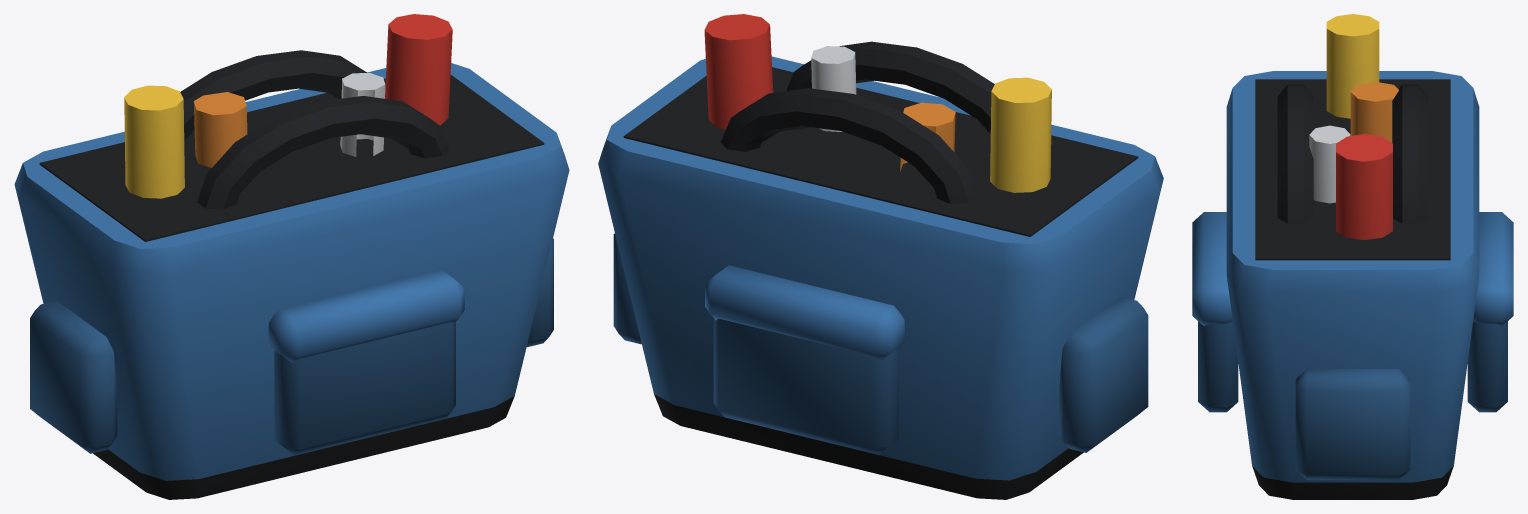
File: SM_ToolBag_01.glb
The picture shows the model from 3 angles, left to right: view 1: azimuth 30°, elevation 25°; view 2: azimuth 150°, elevation 25°; view 3: azimuth 270°, elevation 25°; orthographic projection. The views are drawn at different scales.
Visible parts, largest first — view 1: SM_ToolBag_01; view 2: SM_ToolBag_01; view 3: SM_ToolBag_01.
Part boxes in pixels (x1,y1,x2,y2): SM_ToolBag_01: (14, 14, 569, 499); SM_ToolBag_01: (598, 14, 1163, 499); SM_ToolBag_01: (1192, 14, 1513, 499).
Size of the model in its own units: 0.44 by 0.3213 by 0.28.
1 material, 1 textured.
